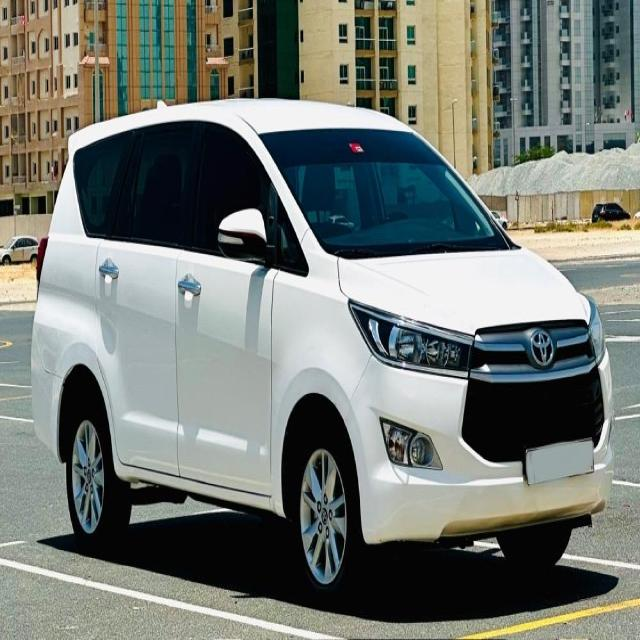light_vehicle: (30, 95, 615, 603)
